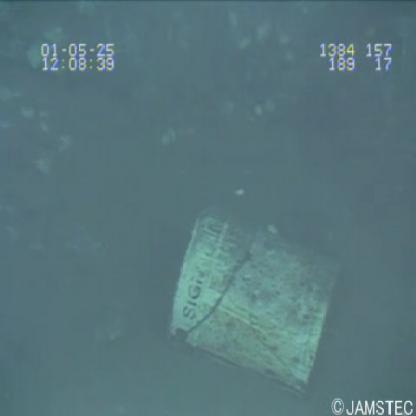Rác: (156, 202, 348, 404)
